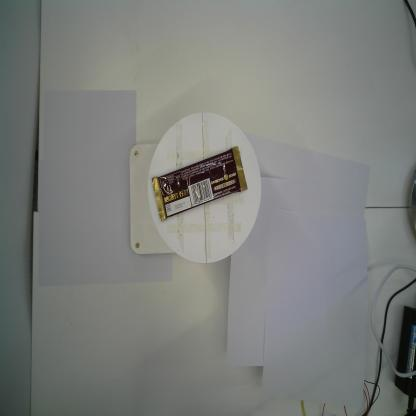Chocolate: (150, 144, 249, 222)
